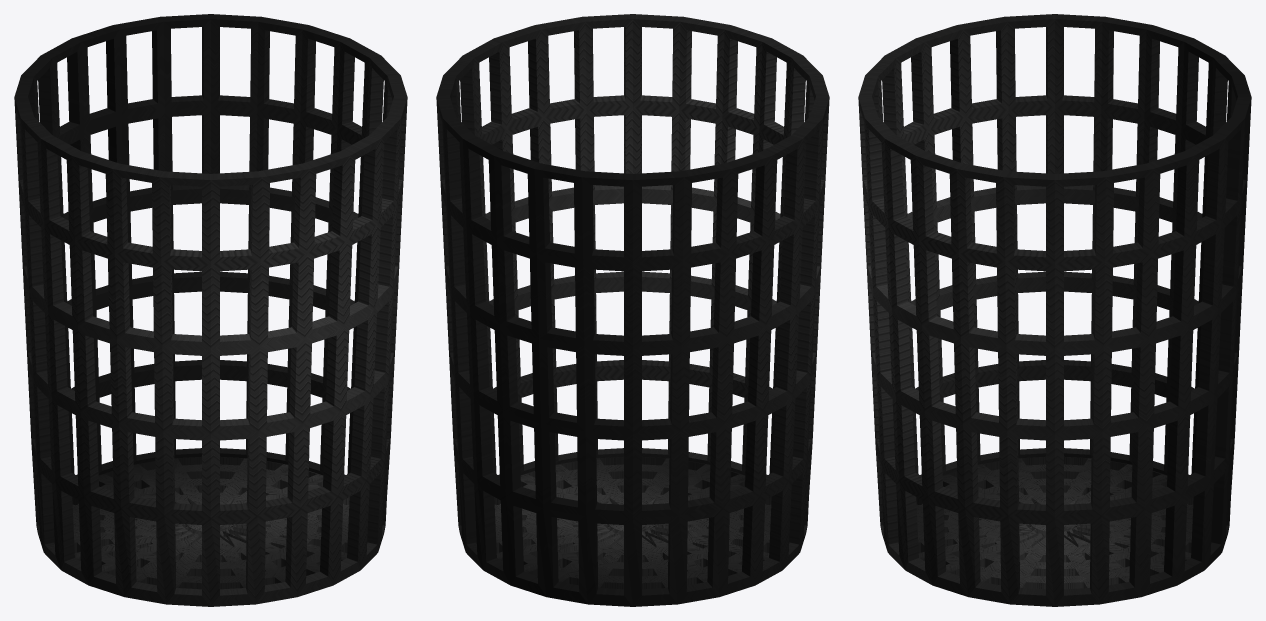
File: Tacho de basura.FBX
3 views of the same model, side by side, from view 1: azimuth 30°, elevation 25°; view 2: azimuth 150°, elevation 25°; view 3: azimuth 270°, elevation 25° (orthographic).
Visible parts, largest first — view 1: Cone002; view 2: Cone002; view 3: Cone002.
Part boxes in pixels (x1=…): Cone002: x1=14, y1=14, x2=407, y2=606; Cone002: x1=436, y1=14, x2=829, y2=606; Cone002: x1=858, y1=14, x2=1251, y2=606.
Bounding box in the file's own units: 93.75 × 116 × 93.75.
1 material, 1 textured.
